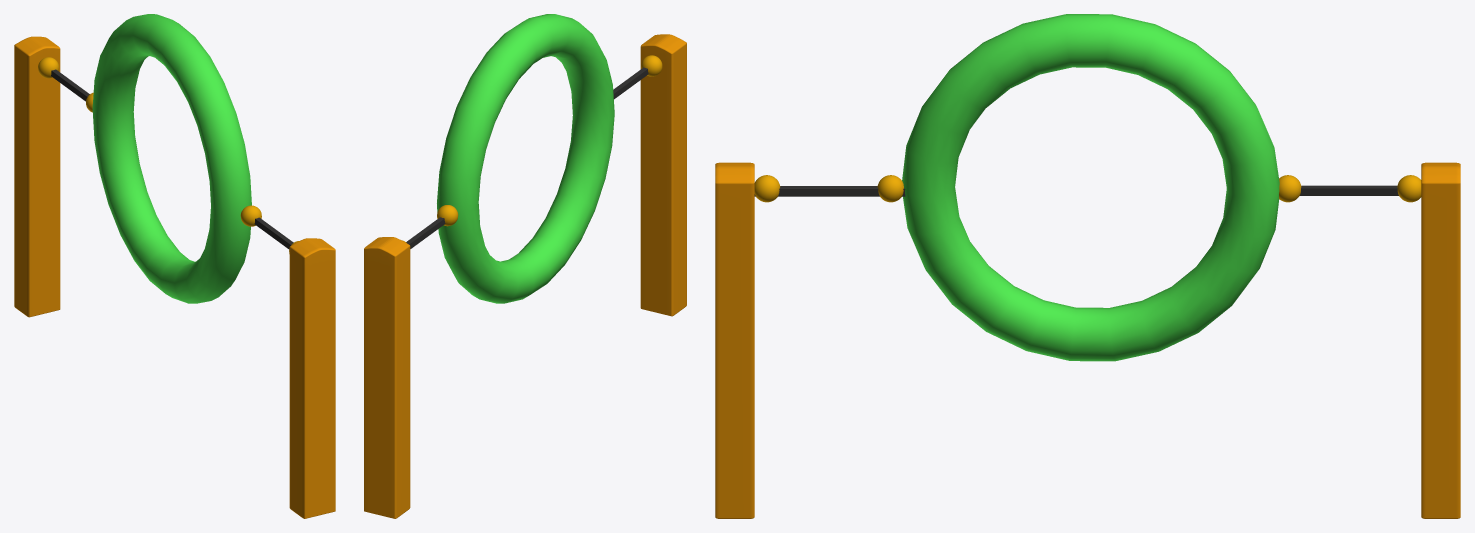
3 views of the same model, side by side, from view 1: azimuth 30°, elevation 25°; view 2: azimuth 150°, elevation 25°; view 3: azimuth 270°, elevation 25° (orthographic). The views are drawn at different scales.
Parts seen in each view (by area): view 1: polySurface716, pTorus1; view 2: polySurface716, pTorus1; view 3: pTorus1, polySurface716.
Boxes of the visible parts, x1,y1,x2,y2 form: polySurface716: [14, 36, 335, 518]; pTorus1: [92, 14, 251, 303]; polySurface716: [364, 34, 686, 518]; pTorus1: [437, 14, 614, 303]; pTorus1: [902, 14, 1279, 361]; polySurface716: [715, 162, 1460, 518].
Bounding box in the file's own units: 1.04 × 8.67 × 11.91.
